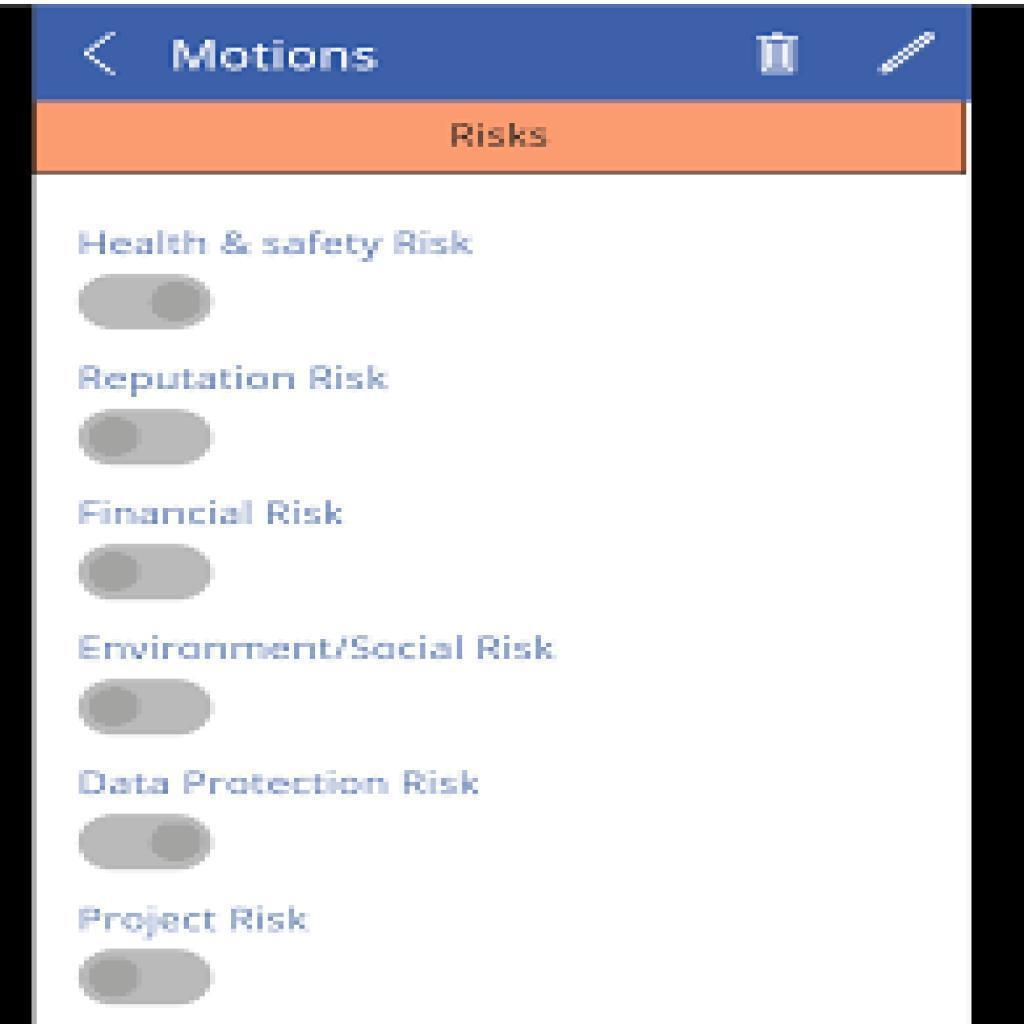icon: (874, 20, 945, 89), (754, 20, 805, 84), (80, 24, 129, 83), (758, 23, 803, 79)
switch: (76, 401, 214, 473), (75, 945, 219, 1008), (77, 810, 218, 874), (80, 673, 216, 737), (77, 272, 216, 334), (77, 545, 215, 600)
